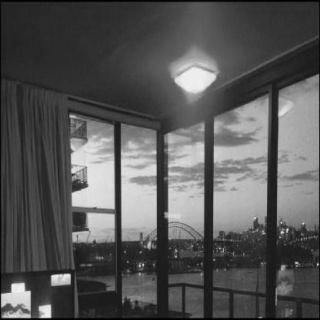other: (4, 97, 66, 251), (157, 18, 235, 108)
